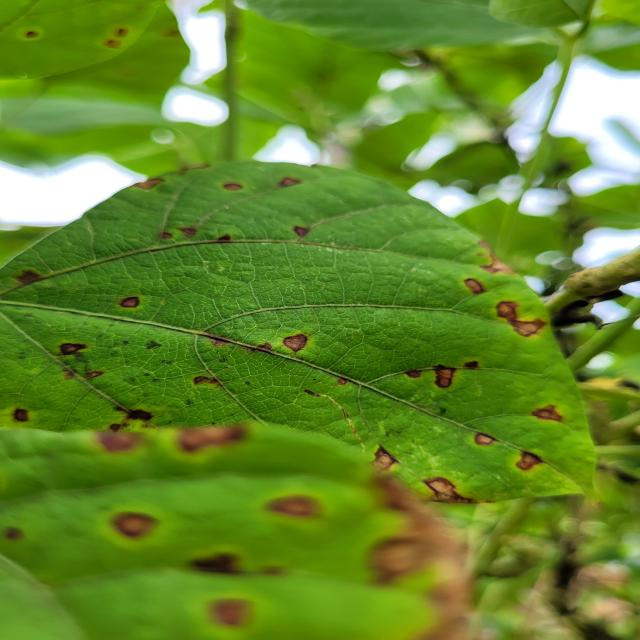Dolicos bean_cercospora leaf spot: (0, 161, 594, 497), (0, 424, 474, 640)
